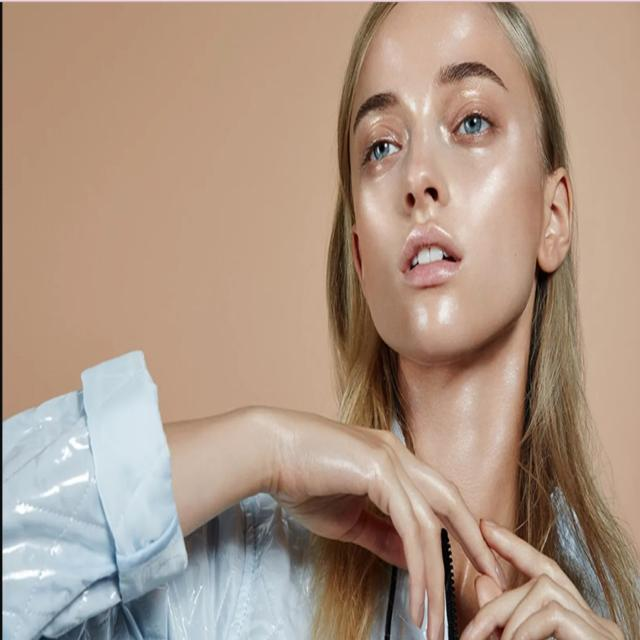oily: (456, 155, 540, 252), (376, 5, 472, 63), (396, 290, 474, 348), (356, 190, 394, 264), (406, 100, 434, 188)
